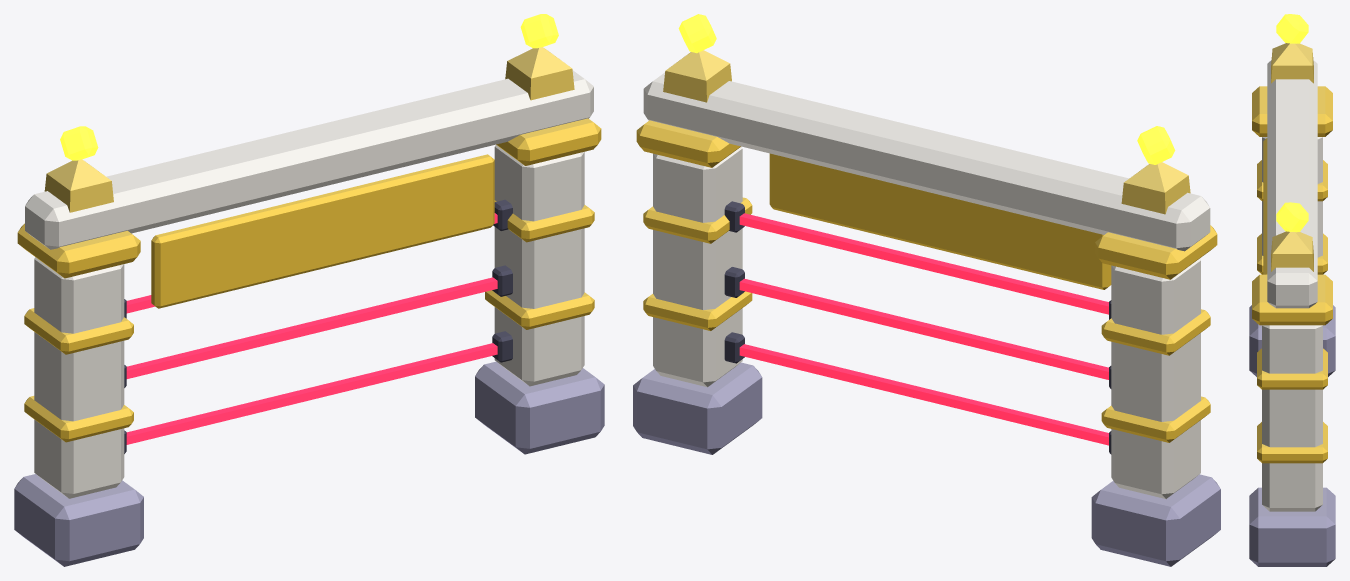
File: Gate_2.glb
3 views of the same model, side by side, from view 1: azimuth 30°, elevation 25°; view 2: azimuth 150°, elevation 25°; view 3: azimuth 270°, elevation 25° (orthographic). The views are drawn at different scales.
Parts seen in each view (by area): view 1: Gate_2, Gate_2_Glow_laser, Gate_2_Glow_acc2; view 2: Gate_2, Gate_2_Glow_laser, Gate_2_Glow_acc2; view 3: Gate_2, Gate_2_Glow_acc2.
Part boxes in pixels (x1,y1,x2,y2): Gate_2: (14,47,604,566); Gate_2_Glow_laser: (126,213,497,444); Gate_2_Glow_acc2: (60,14,558,160); Gate_2: (633,50,1220,566); Gate_2_Glow_laser: (739,213,1108,445); Gate_2_Glow_acc2: (678,14,1175,164); Gate_2: (1249,43,1335,566); Gate_2_Glow_acc2: (1276,14,1308,232).
Size of the model in its own units: 21 by 15.25 by 3.4.
3 materials, 1 textured.
